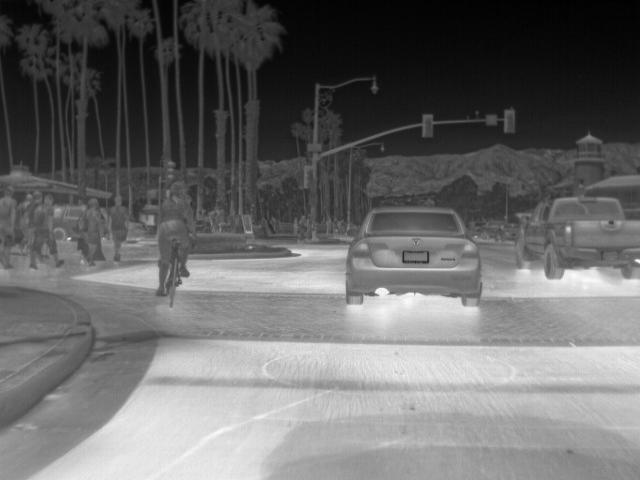car: (342, 204, 486, 308), (515, 194, 638, 280), (52, 203, 86, 240), (494, 222, 523, 242)
person: (153, 185, 195, 300), (29, 195, 63, 270), (78, 196, 106, 266), (1, 186, 19, 268), (112, 196, 130, 263), (296, 213, 309, 243)
